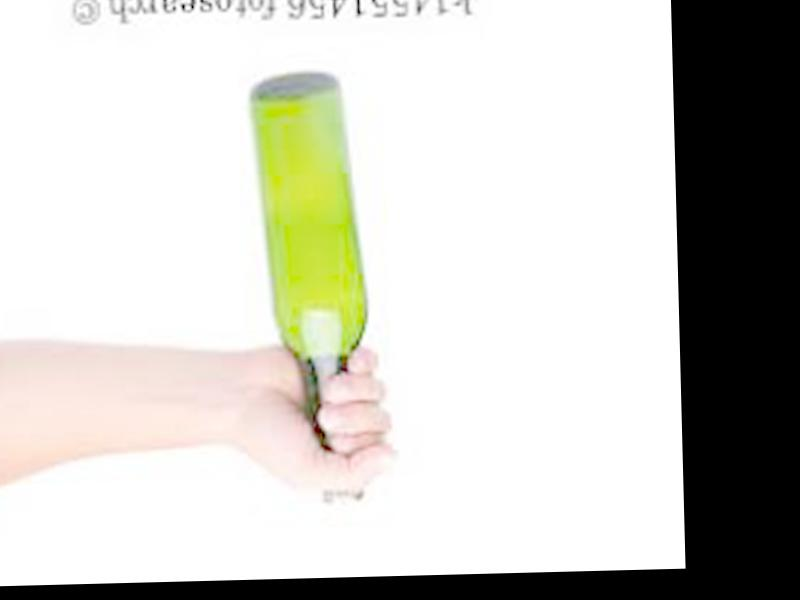Beer: (246, 71, 372, 503)
